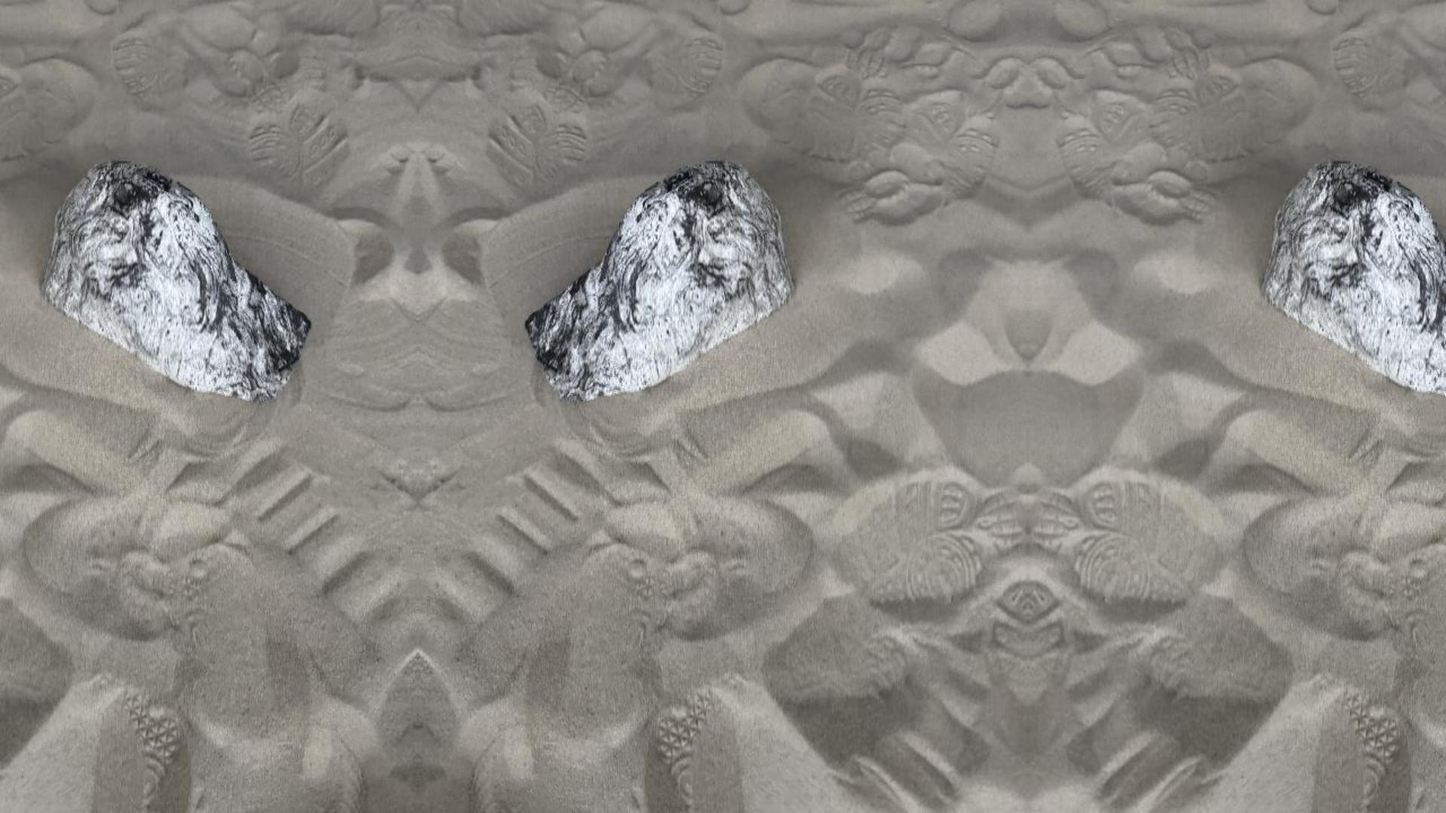rock: (525, 160, 793, 401), (42, 160, 311, 400), (1262, 160, 1445, 393)
